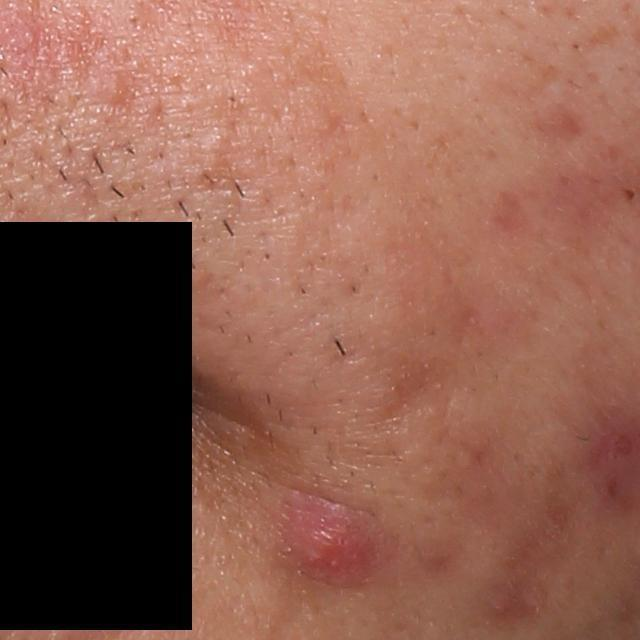comedo: (621, 187, 640, 206)
papule: (289, 502, 377, 584)
